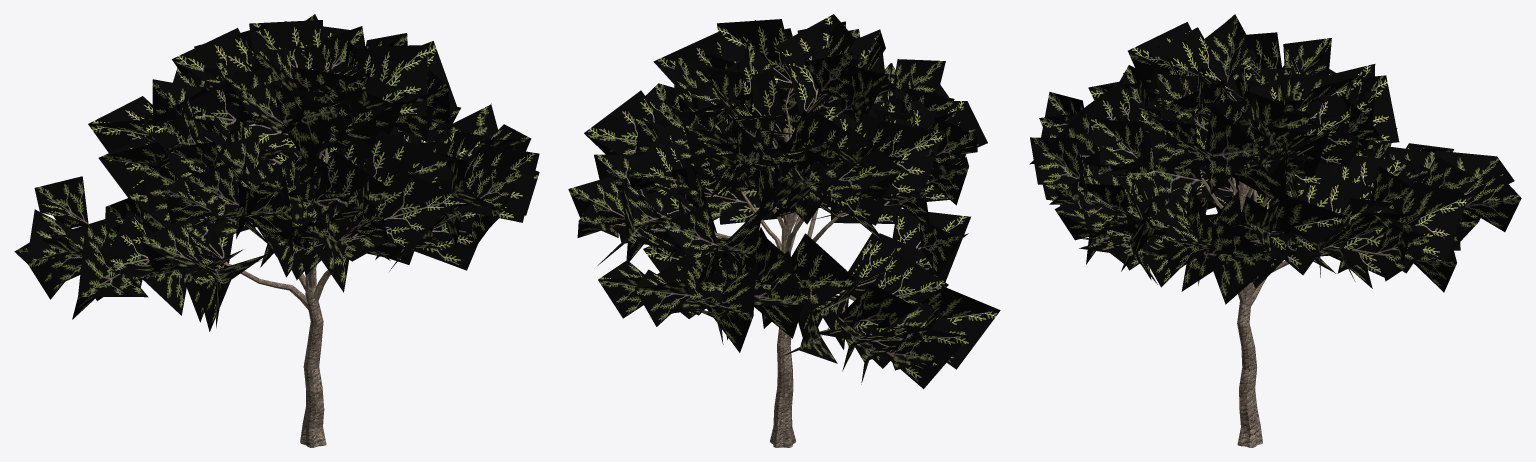
The model's file is Tree_LOD1.fbx.
The picture shows the model from 3 angles, left to right: view 1: azimuth 30°, elevation 25°; view 2: azimuth 150°, elevation 25°; view 3: azimuth 270°, elevation 25°; orthographic projection. The views are drawn at different scales.
Visible parts, largest first — view 1: tree_LOD1; view 2: tree_LOD1; view 3: tree_LOD1.
Part boxes in pixels (bbox=[...]): tree_LOD1: bbox=[14, 14, 539, 447]; tree_LOD1: bbox=[568, 14, 1000, 447]; tree_LOD1: bbox=[1029, 14, 1521, 447].
Size of the model in its own units: 23.12 by 21.12 by 23.71.
